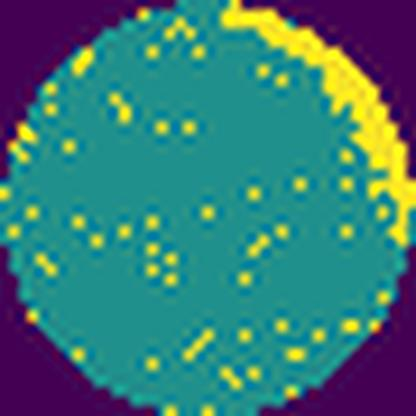Edge-Loc: (218, 0, 416, 257)
